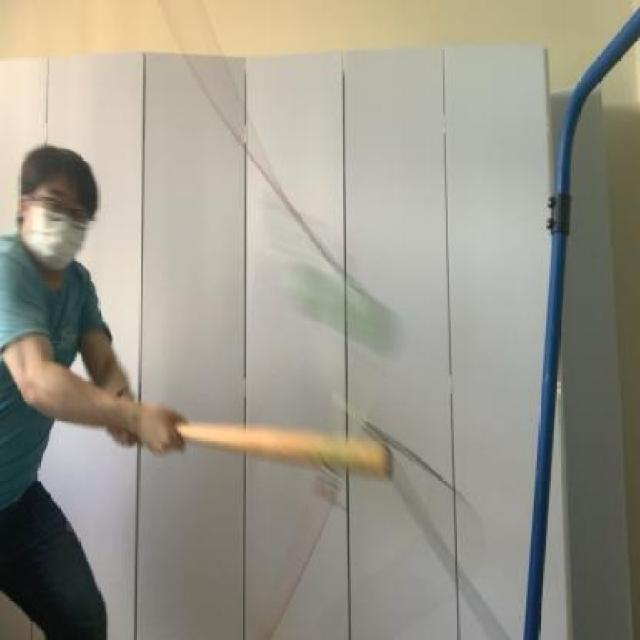baseball: (282, 261, 406, 365)
